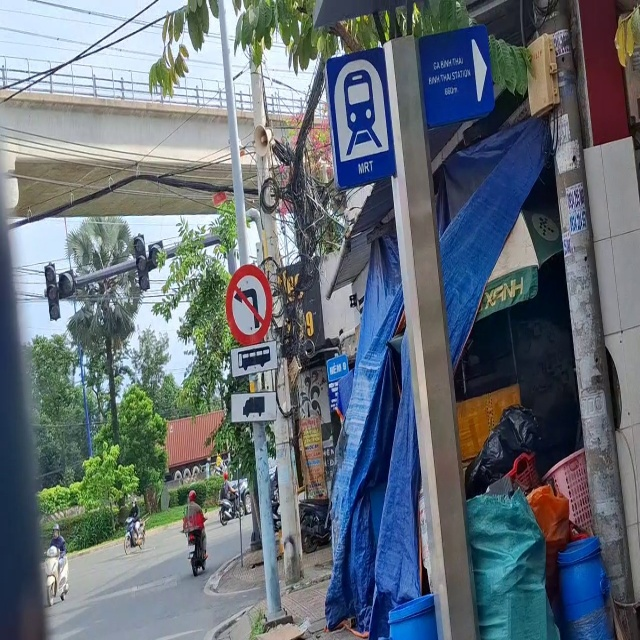cam queo trai: (217, 261, 279, 347)
